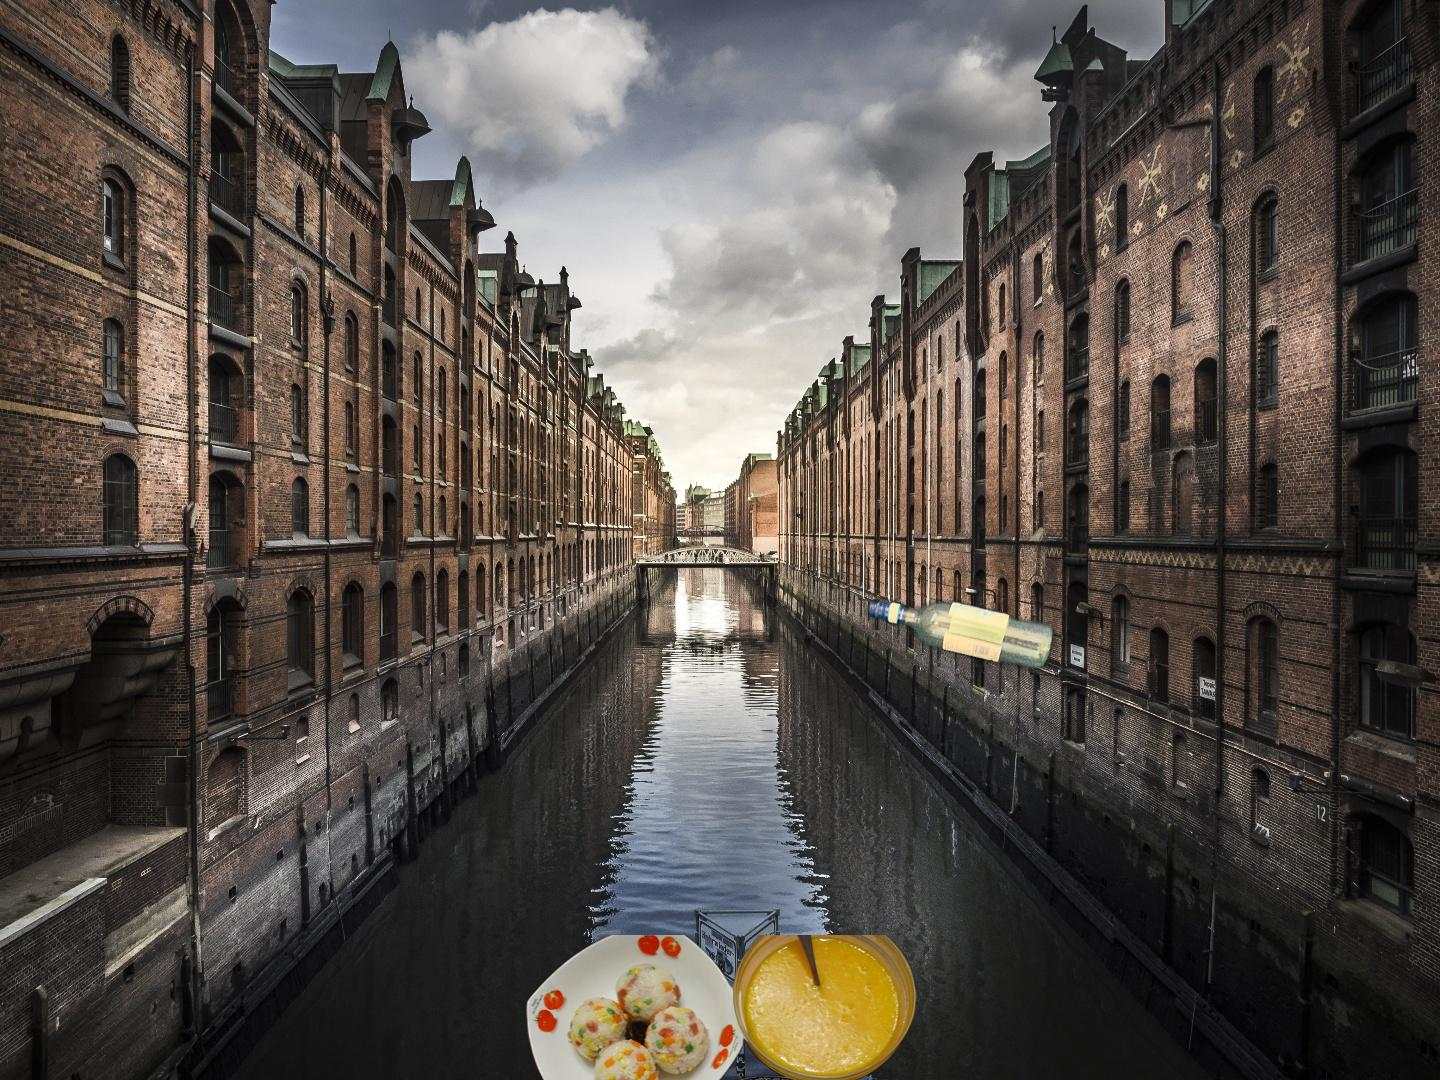biological: (522, 935, 922, 1080)
glass: (863, 594, 1060, 675)
